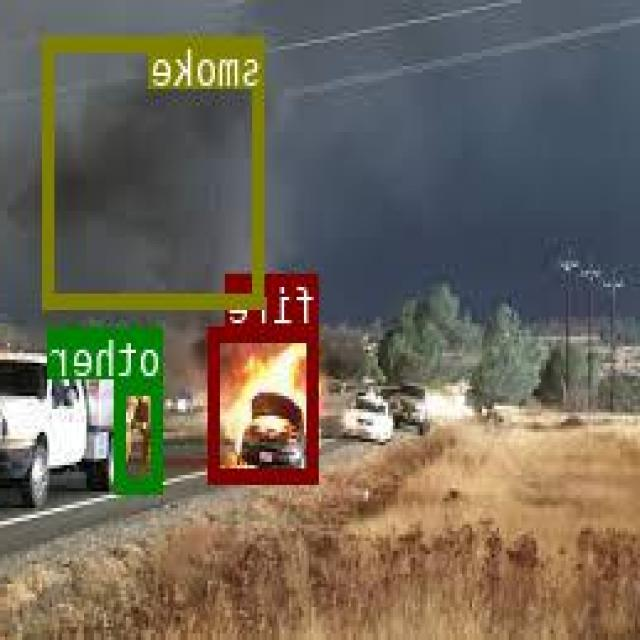fire: (211, 325, 319, 480)
other: (117, 378, 164, 490)
smoke: (45, 34, 266, 305)
